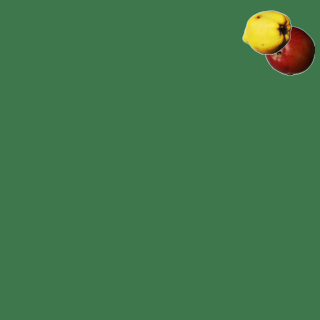Apple Braeburn: (264, 25, 314, 75)
Quince: (241, 7, 291, 57)
